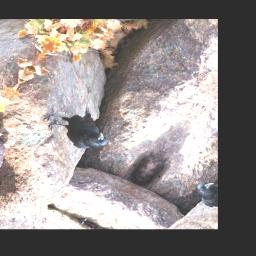Crow: (32, 92, 129, 158)
